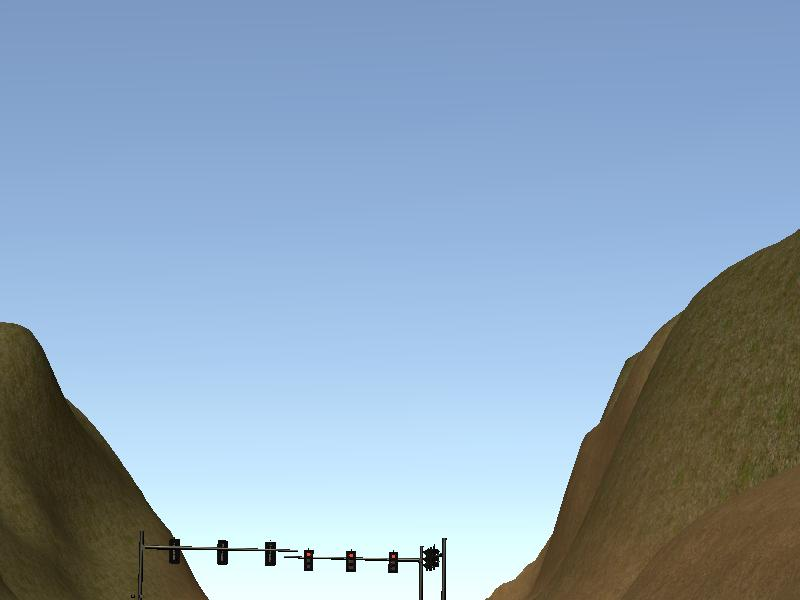Red: (301, 548, 315, 572), (386, 549, 399, 573), (345, 550, 356, 573)
